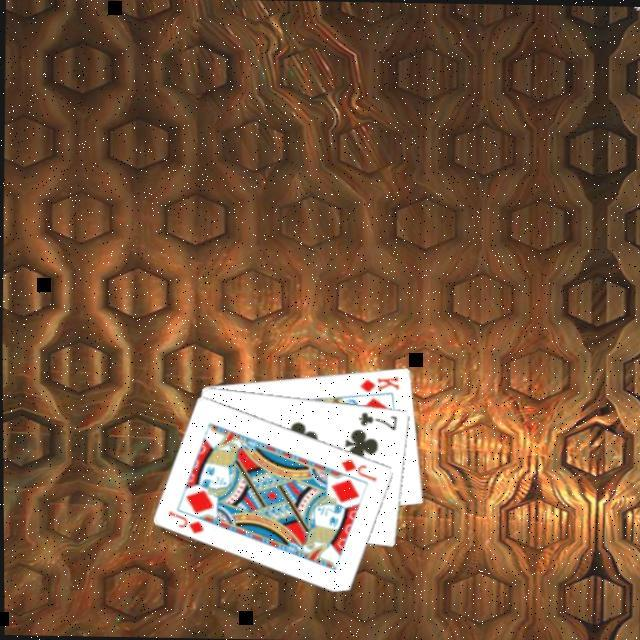7C: (354, 409, 398, 434)
JD: (336, 454, 378, 486), (162, 507, 205, 538)
KD: (354, 372, 400, 396)
